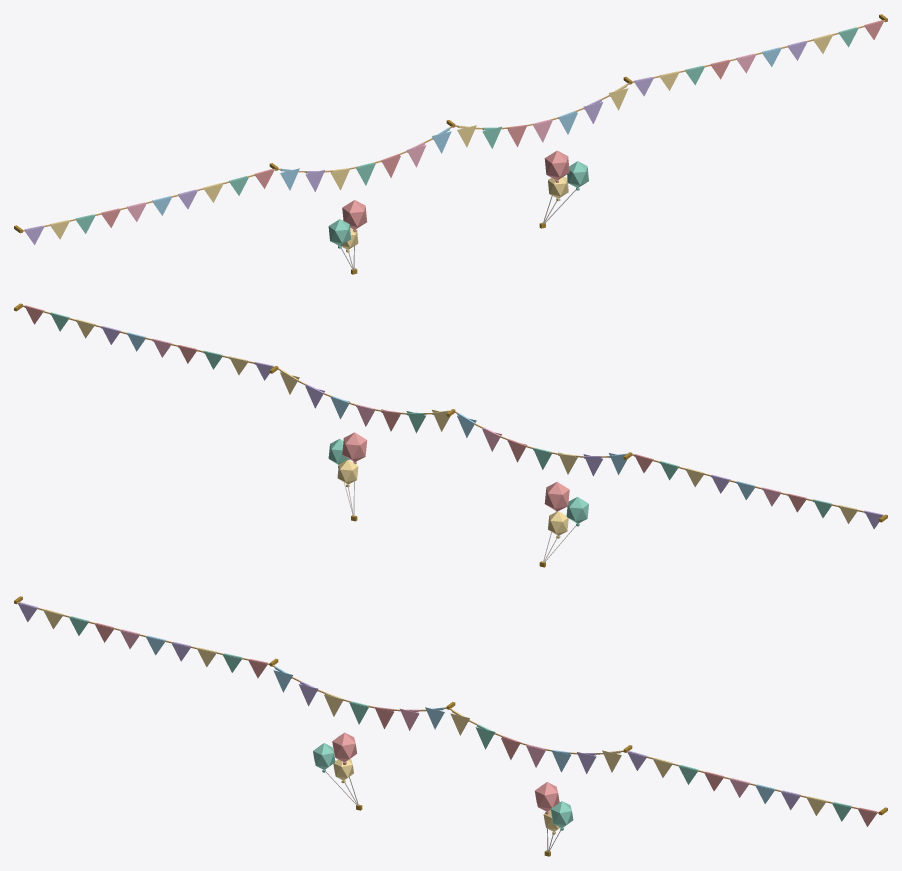
File: CatCafe_Plot_GrandOpeningBunting.glb
3 views of the same model, one above another, from view 1: azimuth 30°, elevation 25°; view 2: azimuth 150°, elevation 25°; view 3: azimuth 330°, elevation 25° (orthographic).
Parts seen in each view (by area): view 1: CatCafe_Plot_GrandOpeningBunting, CatCafe_Plot_GrandOpeningBunting_LeftBalloons, CatCafe_Plot_GrandOpeningBunting_RightBalloons; view 2: CatCafe_Plot_GrandOpeningBunting, CatCafe_Plot_GrandOpeningBunting_RightBalloons, CatCafe_Plot_GrandOpeningBunting_LeftBalloons; view 3: CatCafe_Plot_GrandOpeningBunting, CatCafe_Plot_GrandOpeningBunting_RightBalloons, CatCafe_Plot_GrandOpeningBunting_LeftBalloons.
Boxes of the visible parts, left/top/right/bottom form: CatCafe_Plot_GrandOpeningBunting: left=14, top=14, right=887, bottom=244; CatCafe_Plot_GrandOpeningBunting_LeftBalloons: left=539, top=150, right=588, bottom=228; CatCafe_Plot_GrandOpeningBunting_RightBalloons: left=328, top=200, right=367, bottom=274; CatCafe_Plot_GrandOpeningBunting: left=14, top=303, right=887, bottom=528; CatCafe_Plot_GrandOpeningBunting_RightBalloons: left=539, top=482, right=588, bottom=567; CatCafe_Plot_GrandOpeningBunting_LeftBalloons: left=328, top=432, right=367, bottom=521; CatCafe_Plot_GrandOpeningBunting: left=14, top=596, right=887, bottom=826; CatCafe_Plot_GrandOpeningBunting_RightBalloons: left=313, top=732, right=362, bottom=810; CatCafe_Plot_GrandOpeningBunting_LeftBalloons: left=535, top=782, right=573, bottom=856.
Size of the model in its own units: 44.14 by 6.32 by 1.46.
Materials: 1 (1 with a texture image).
